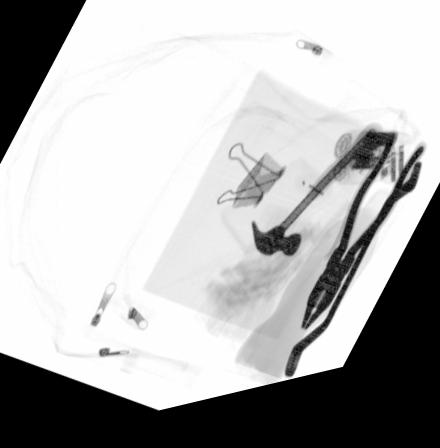Hammer: (249, 147, 376, 271)
Pliers: (300, 150, 425, 346)
Wrench: (283, 182, 423, 389)
